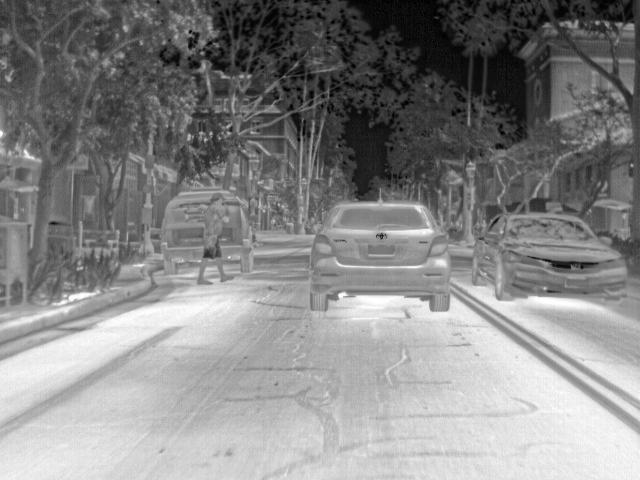car: (307, 199, 454, 310), (471, 210, 627, 306), (160, 189, 256, 275)
person: (196, 191, 235, 284)
